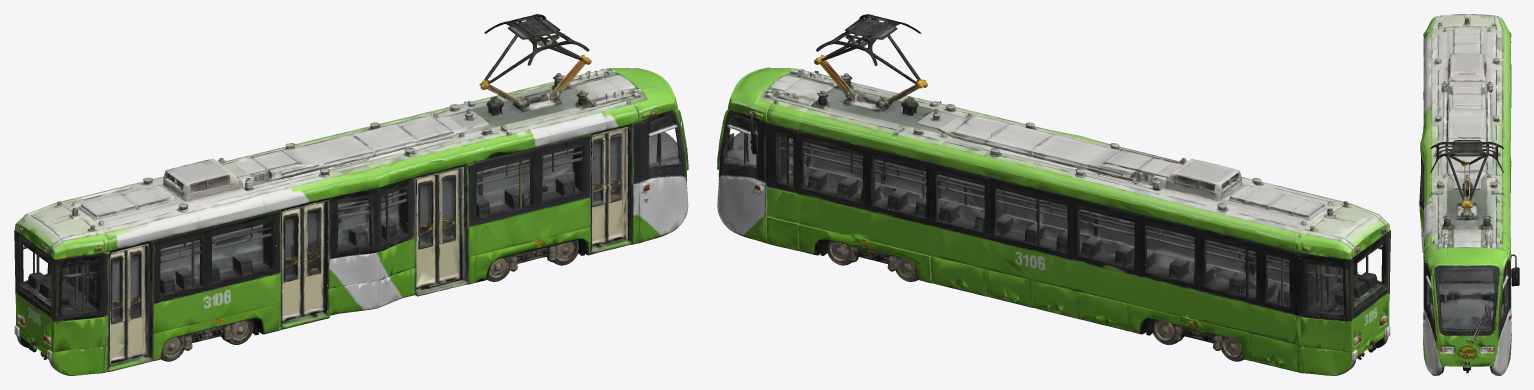
File: ktm19.glb
The picture shows the model from 3 angles, left to right: view 1: azimuth 30°, elevation 25°; view 2: azimuth 150°, elevation 25°; view 3: azimuth 270°, elevation 25°; orthographic projection. The views are drawn at different scales.
Parts seen in each view (by area): view 1: KTM-19; view 2: KTM-19; view 3: KTM-19.
Part boxes in pixels (left/top/right/bottom): KTM-19: left=14, top=14, right=688, bottom=375; KTM-19: left=717, top=14, right=1390, bottom=375; KTM-19: left=1419, top=14, right=1519, bottom=375.
Size of the model in its own units: 15.4 by 5.21 by 2.5.
1 material, 1 textured.
